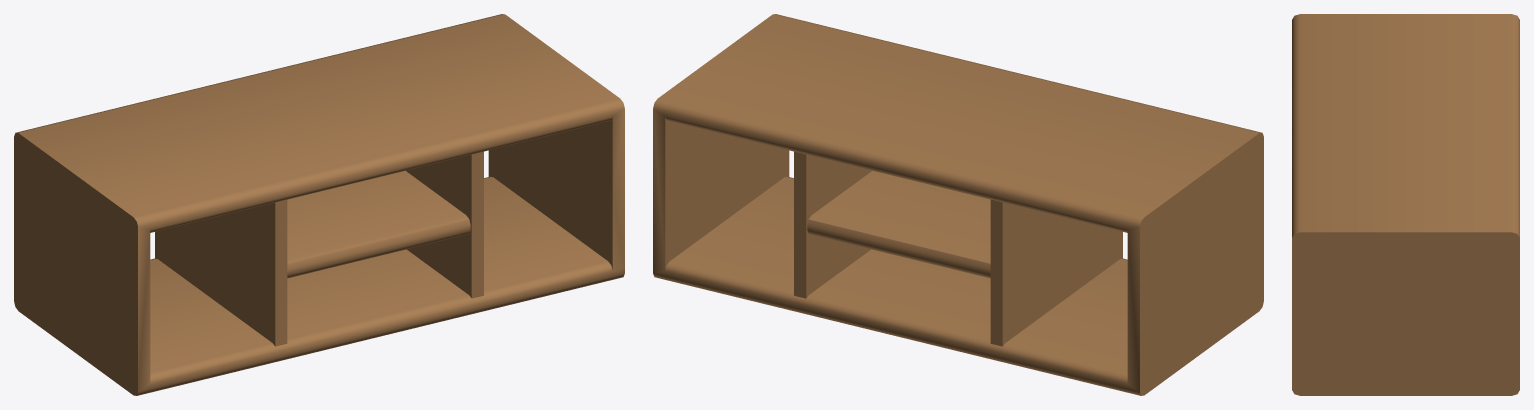
Rendered from cc0-cabinet-shelves-lod1.glb.
3 views of the same model, side by side, from view 1: azimuth 30°, elevation 25°; view 2: azimuth 150°, elevation 25°; view 3: azimuth 270°, elevation 25° (orthographic). The views are drawn at different scales.
Visible parts, largest first — view 1: part_0; view 2: part_0; view 3: part_0.
Boxes of the visible parts, left/top/right/bottom form: part_0: left=14, top=14, right=624, bottom=395; part_0: left=653, top=14, right=1263, bottom=395; part_0: left=1292, top=14, right=1519, bottom=395.
Size of the model in its own units: 4 by 1.4 by 1.77.
Materials: 1 (1 with a texture image).
